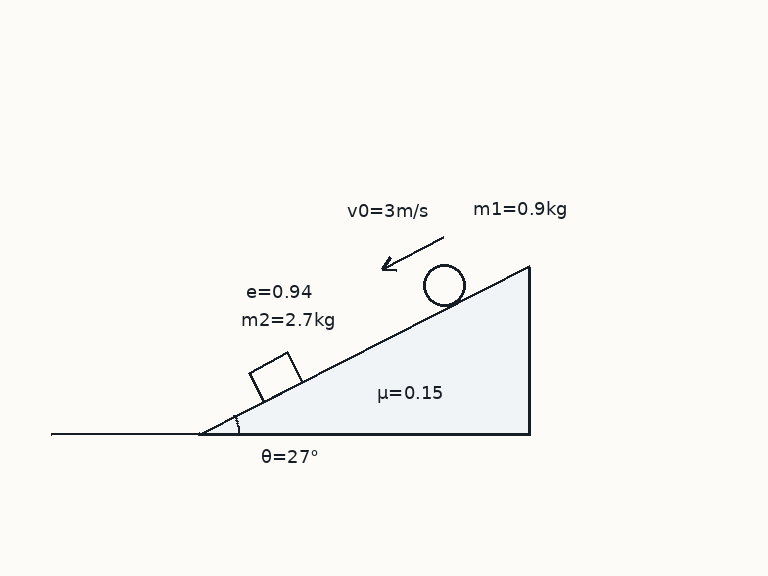ball: (421, 262, 467, 308)
block: (247, 350, 305, 403)
ramp: (197, 264, 531, 436)
